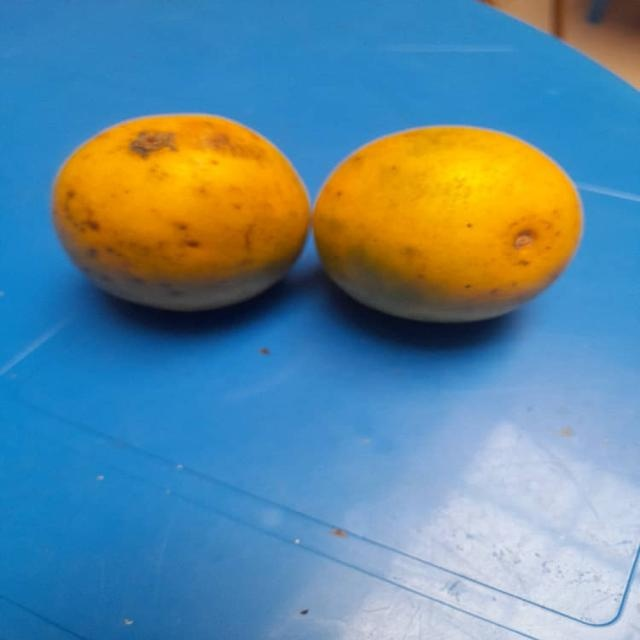agrume: (309, 114, 587, 338), (56, 112, 312, 318)
